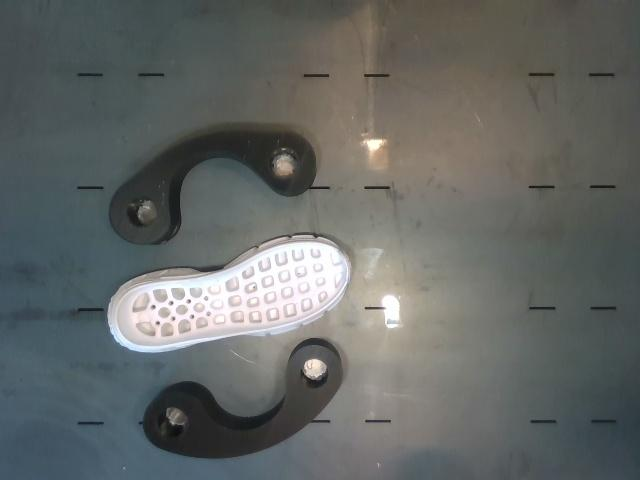shoes: (116, 242, 347, 346)
